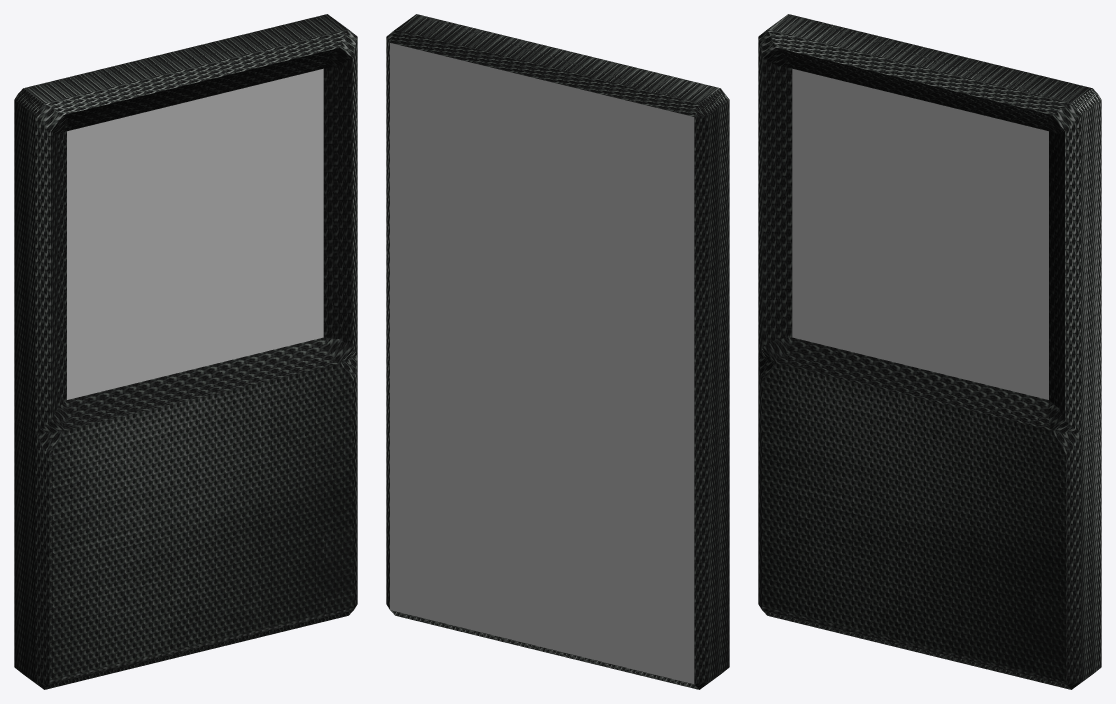
The model's file is PDA.fbx.
The picture shows the model from 3 angles, left to right: view 1: azimuth 30°, elevation 25°; view 2: azimuth 150°, elevation 25°; view 3: azimuth 330°, elevation 25°; orthographic projection.
Parts seen in each view (by area): view 1: pCube2; view 2: pCube2; view 3: pCube2.
Boxes of the visible parts, x1=… form: pCube2: x1=14, y1=14, x2=357, y2=689; pCube2: x1=386, y1=14, x2=729, y2=689; pCube2: x1=758, y1=14, x2=1101, y2=689.
Size of the model in its own units: 2 by 3.48 by 0.34.
